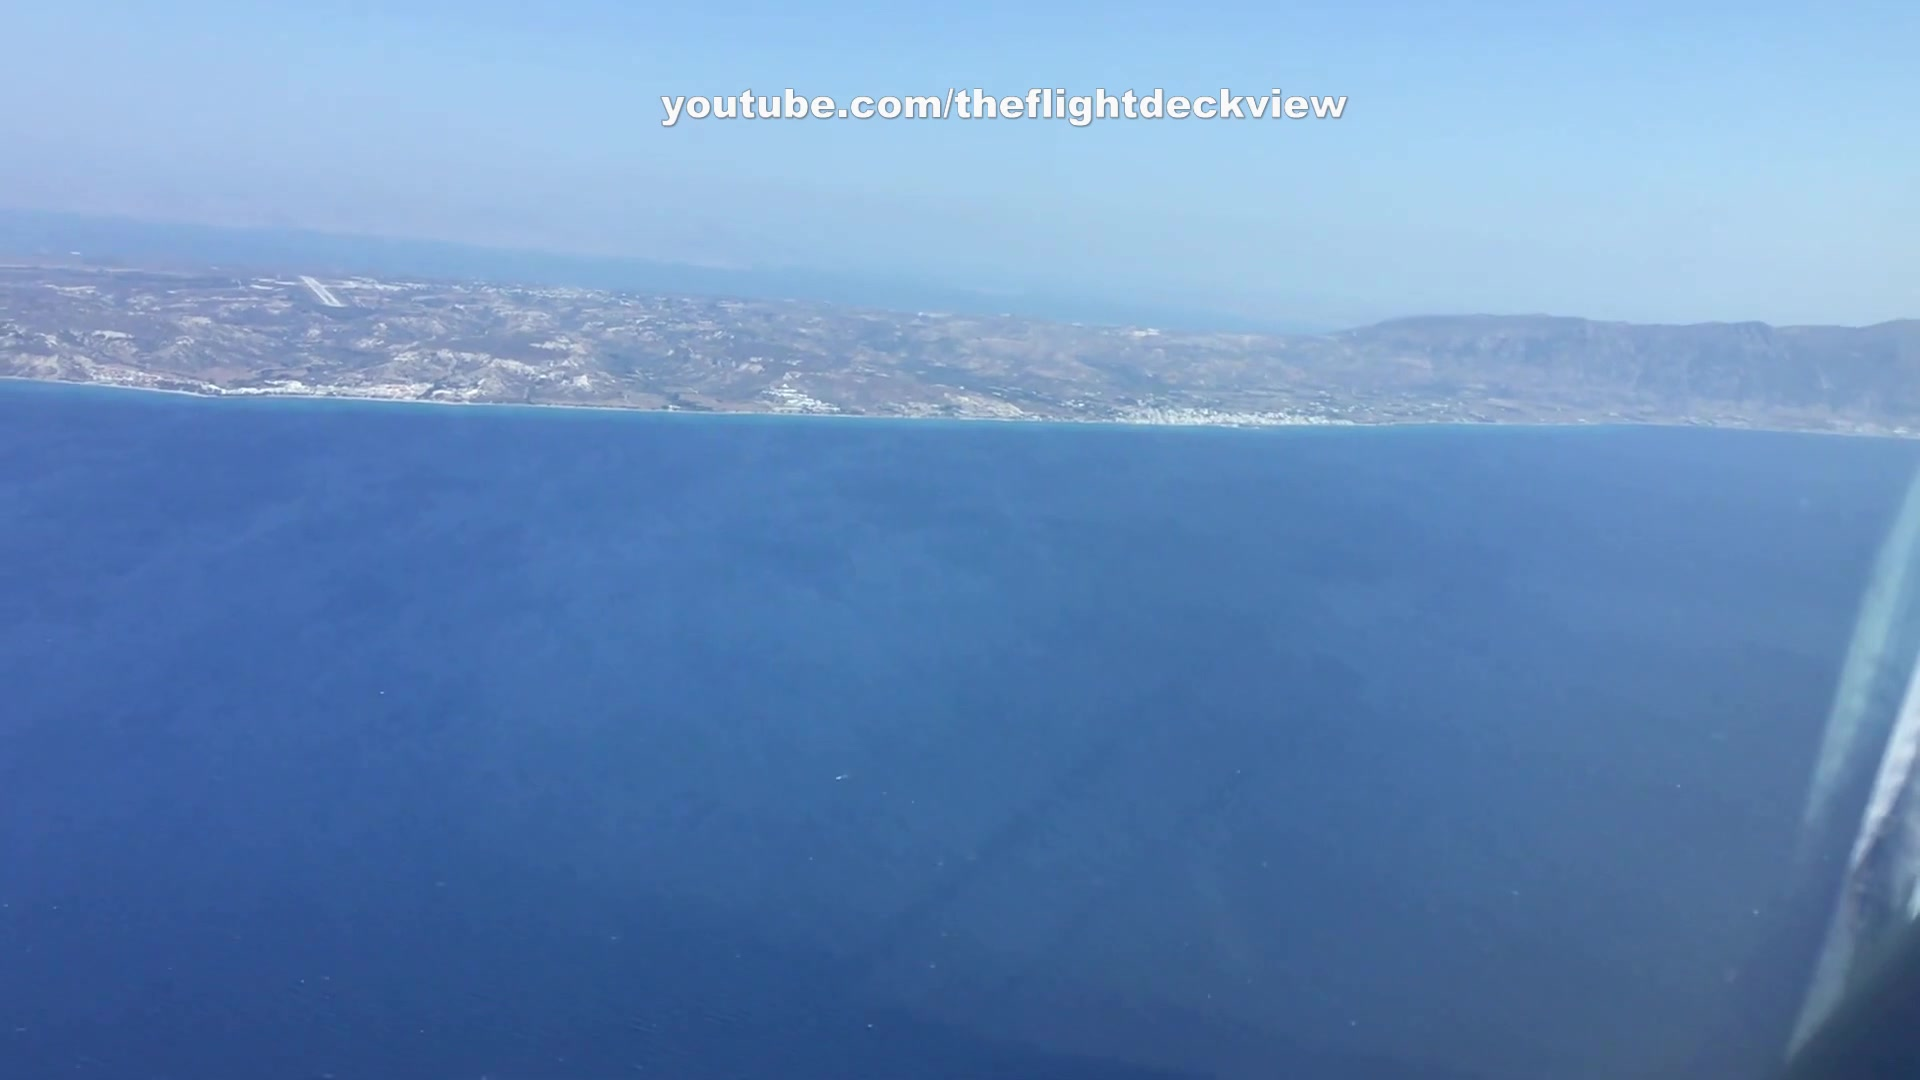runway: (299, 273, 345, 309)
